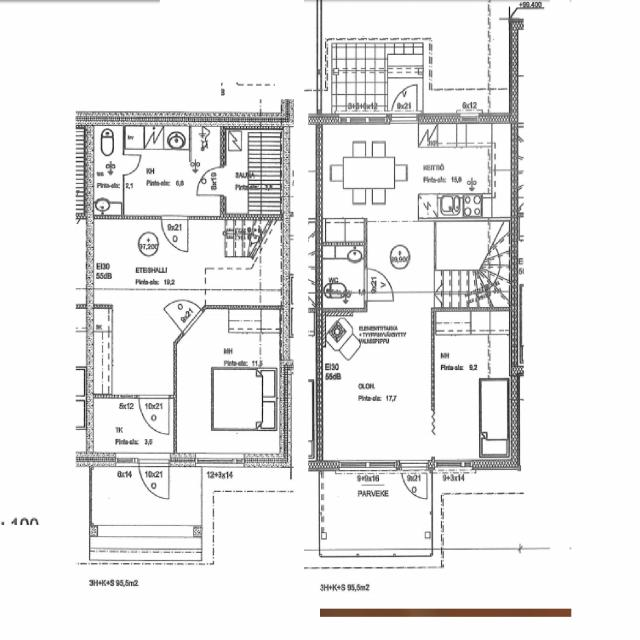door: (164, 286, 203, 334), (139, 454, 169, 503), (140, 394, 170, 435), (392, 82, 418, 124), (402, 461, 427, 500), (364, 269, 394, 301), (161, 216, 187, 251), (198, 167, 226, 196)
